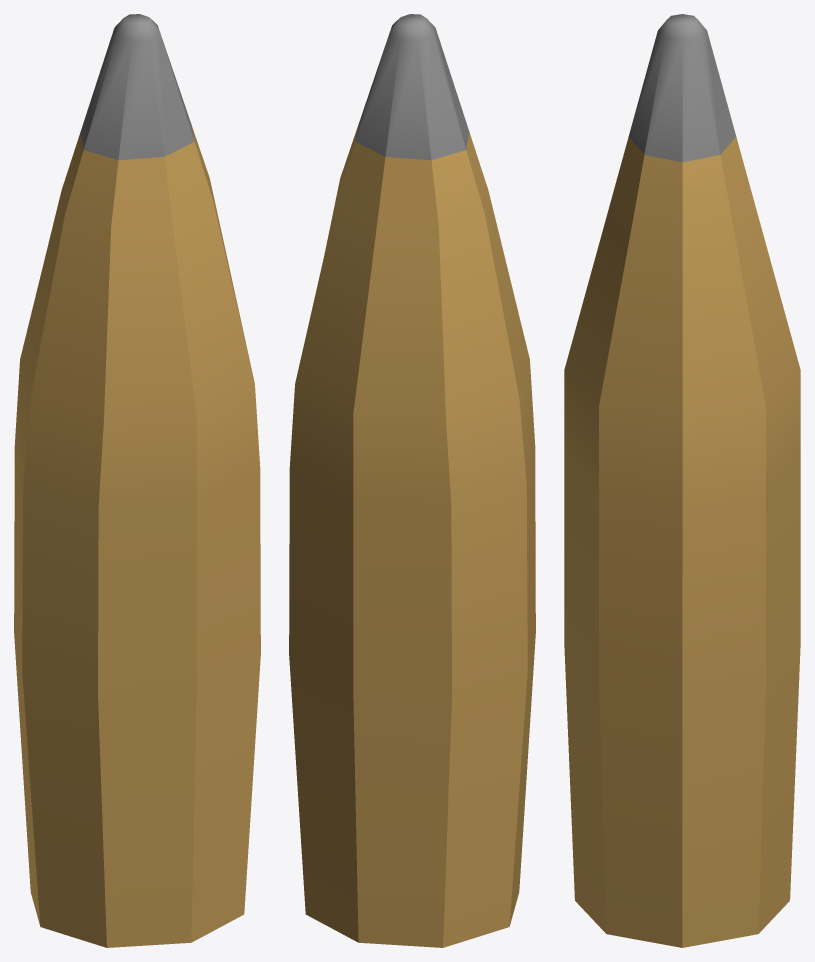
The model's file is Bullet.fbx.
3 renders of one model, left to right at view 1: azimuth 30°, elevation 25°; view 2: azimuth 150°, elevation 25°; view 3: azimuth 270°, elevation 25°, orthographic.
Visible parts, largest first — view 1: Cylinder; view 2: Cylinder; view 3: Cylinder.
Boxes of the visible parts, x1,y1,x2,y2 form: Cylinder: [14, 14, 260, 947]; Cylinder: [289, 14, 535, 947]; Cylinder: [564, 14, 800, 947].
Bounding box in the file's own units: 0.8869 × 3.25 × 0.7903.
